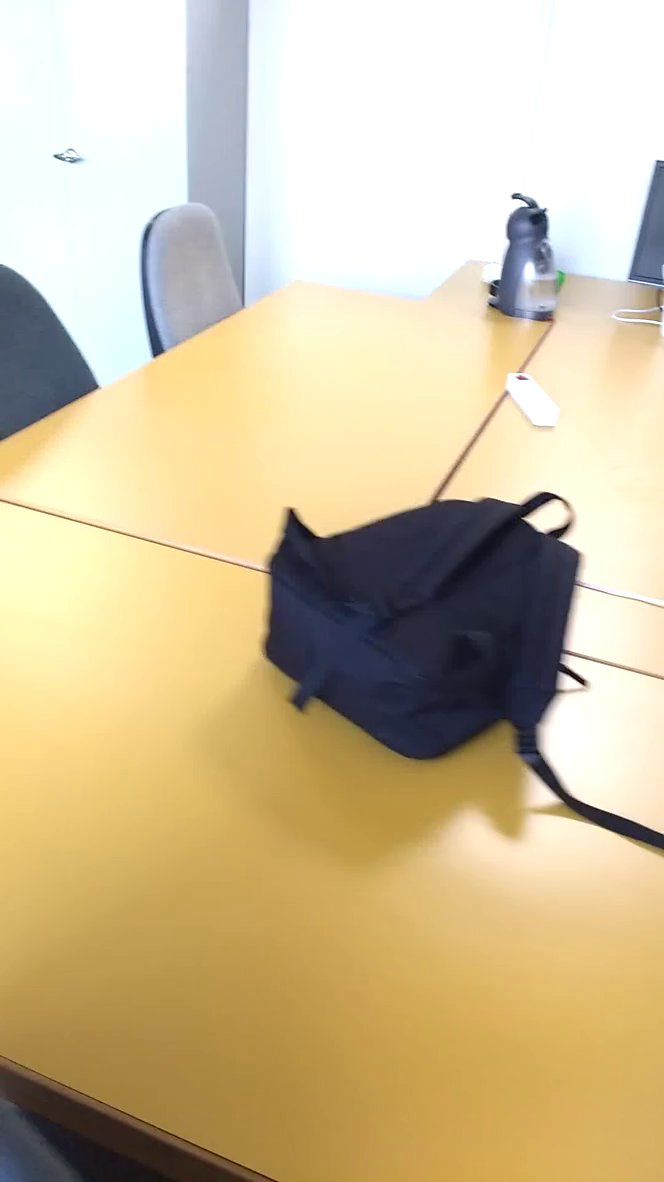bag: (251, 469, 664, 854)
chair: (118, 196, 266, 367)
